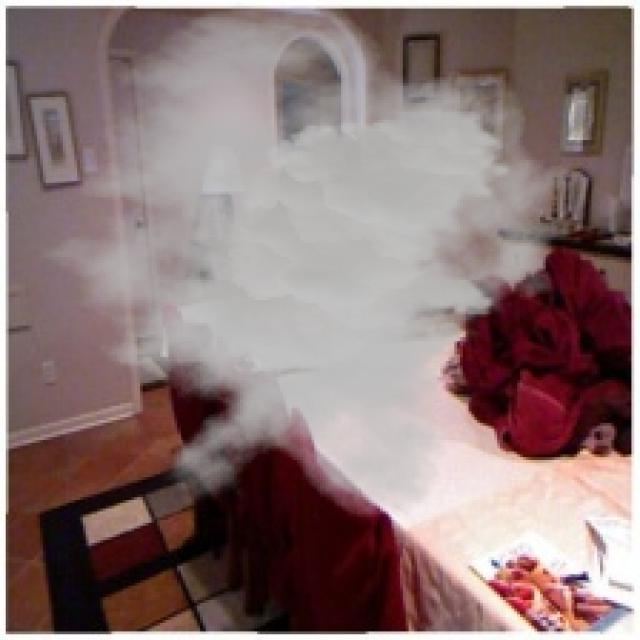smoke: (17, 3, 574, 520)
